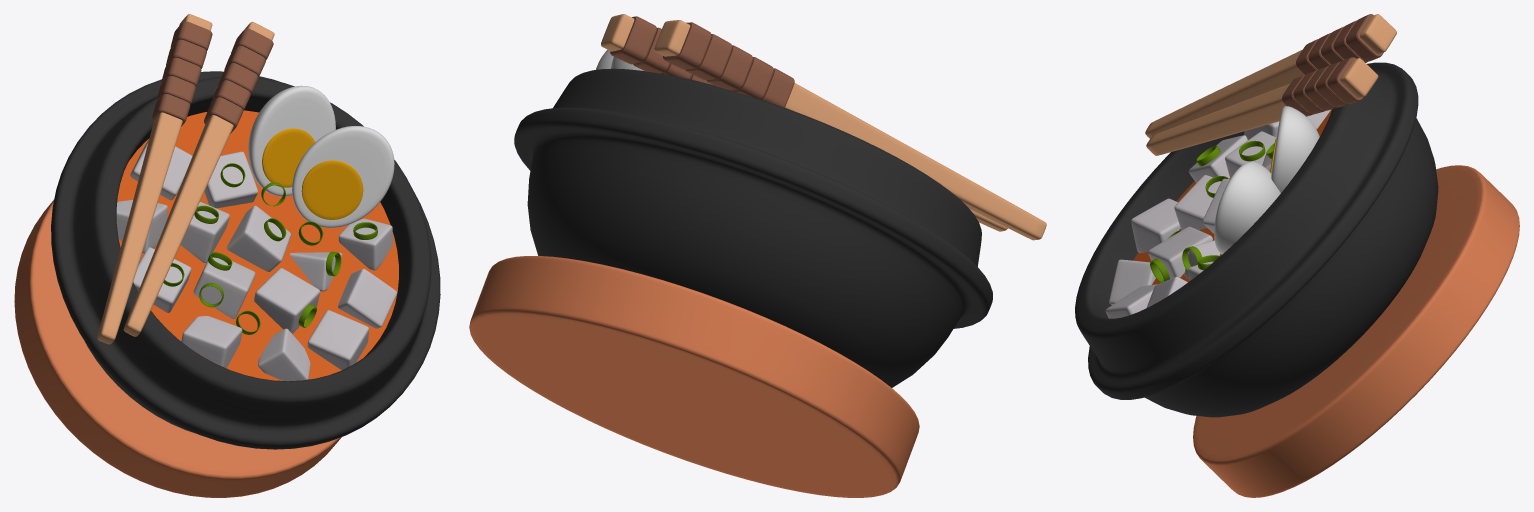
Rendered from sundubu-jjigae.glb.
3 views of the same model, side by side, from view 1: azimuth 30°, elevation 25°; view 2: azimuth 150°, elevation 25°; view 3: azimuth 270°, elevation 25° (orthographic). The views are drawn at different scales.
Parts seen in each view (by area): view 1: Sphere.011, Cylinder.100, Circle.004, Cube.054, Cube.052, Sphere.015, Sphere.013, Cube.055, Cube.053, Sphere.014, Cube.058, Cube.067 (+13 smaller); view 2: Sphere.011, Cylinder.100, Cube.054, Cube.055, Cube.053, Cube.052; view 3: Sphere.011, Cylinder.100, Cube.052, Cube.054, Sphere.015, Cube.053, Sphere.013, Cube.055, Cube.065, Cube.058, Cube.059, Cube.066 (+6 smaller).
Part boxes in pixels (x1,y1,x2,y2): Sphere.011: (51, 71, 440, 449); Cylinder.100: (14, 199, 341, 497); Circle.004: (117, 110, 398, 380); Cube.054: (97, 14, 212, 344); Cube.052: (123, 21, 274, 336); Sphere.015: (292, 126, 394, 227); Sphere.013: (248, 85, 335, 196); Cube.055: (152, 21, 212, 126); Cube.053: (204, 28, 273, 133); Sphere.014: (301, 160, 363, 219); Cube.058: (254, 268, 320, 333); Cube.067: (307, 310, 368, 369); Sphere.011: (514, 68, 992, 387); Cylinder.100: (469, 256, 919, 497); Cube.054: (654, 20, 1046, 240); Cube.055: (663, 22, 794, 107); Cube.053: (610, 16, 713, 85); Cube.052: (601, 14, 1007, 231); Sphere.011: (1075, 62, 1438, 417); Cylinder.100: (1193, 165, 1519, 497); Cube.052: (1146, 58, 1378, 155); Cube.054: (1145, 14, 1396, 138); Sphere.015: (1214, 161, 1280, 254); Cube.053: (1282, 57, 1363, 116); Sphere.013: (1271, 106, 1319, 192); Cube.055: (1296, 14, 1383, 74); Cube.065: (1131, 198, 1180, 252); Cube.058: (1148, 226, 1212, 278); Cube.059: (1174, 175, 1221, 230); Cube.066: (1109, 259, 1155, 304).
Size of the model in its own units: 2.62 by 2.9 by 2.55.
